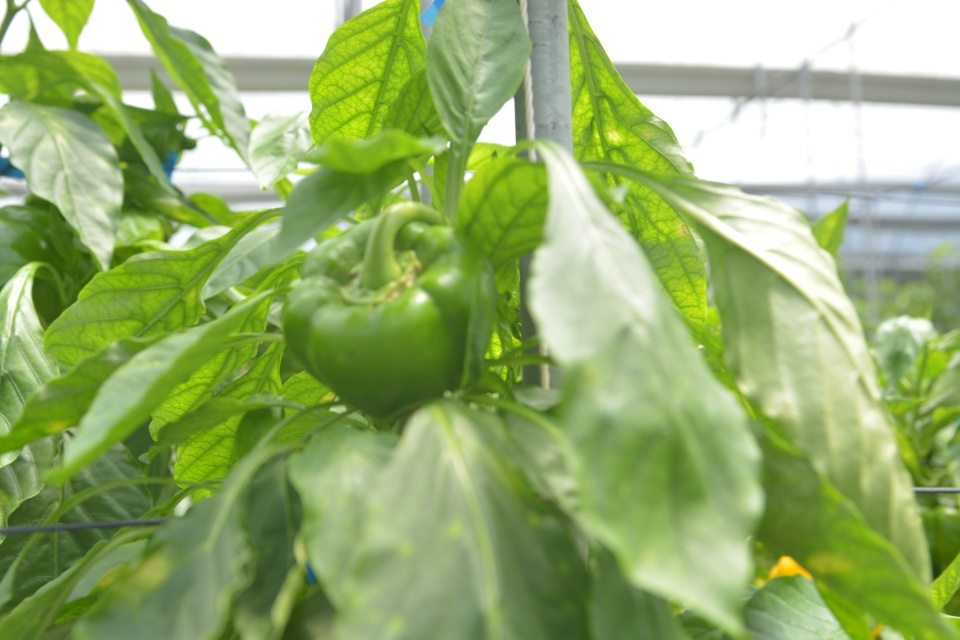fruit: (279, 208, 500, 423)
pedicle: (338, 246, 422, 310)
